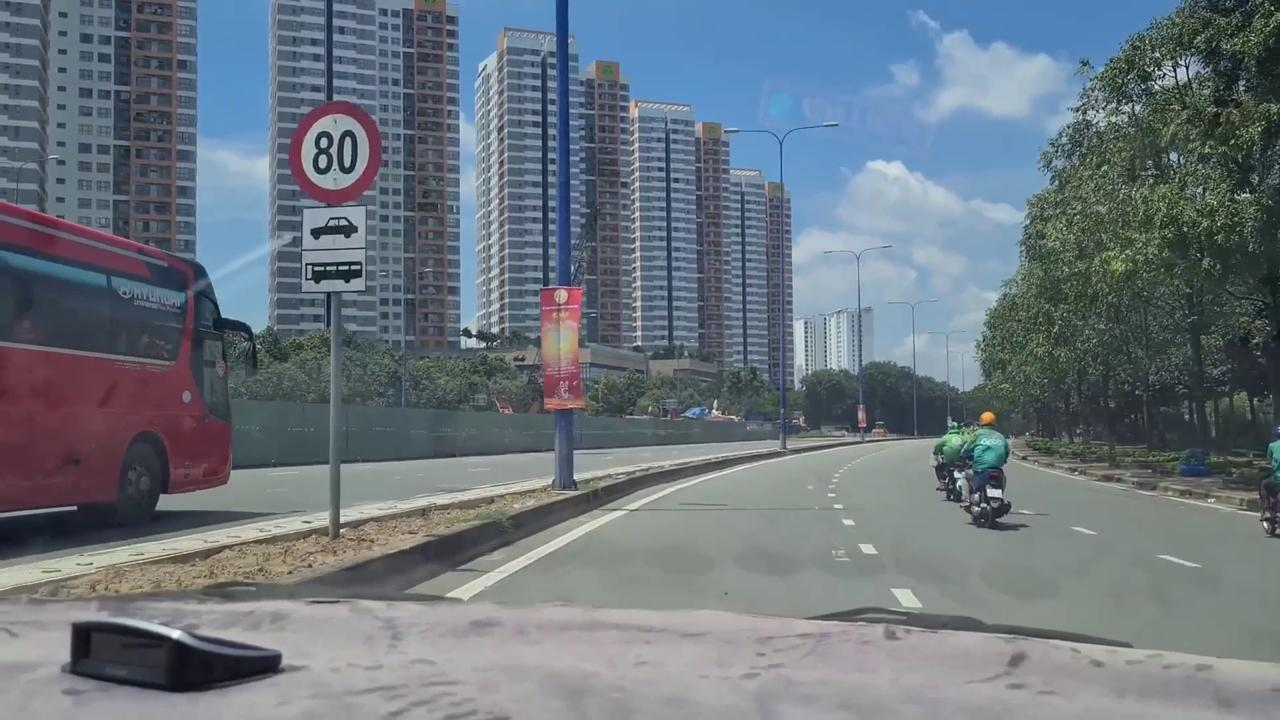Biển phụ: (297, 204, 371, 292)
Giới hạn tốc độ 80Km/h: (288, 99, 385, 207)
